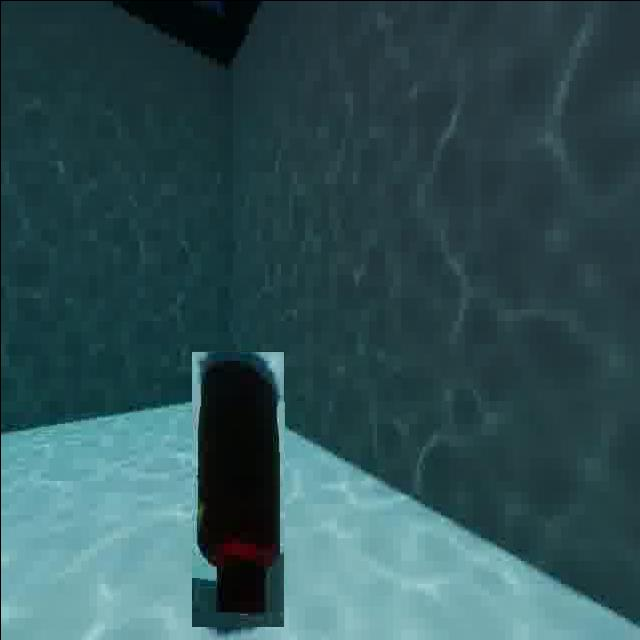Cylinder: (191, 350, 284, 626)
